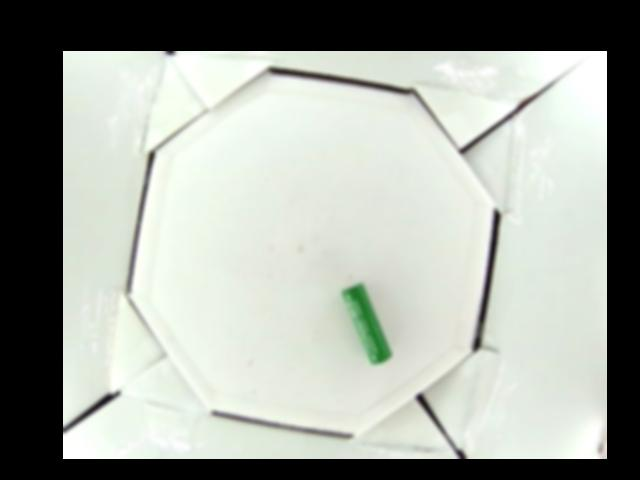Battery: (340, 283, 394, 363)
